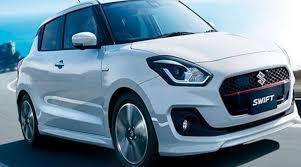Hatchback: (10, 0, 300, 165)
